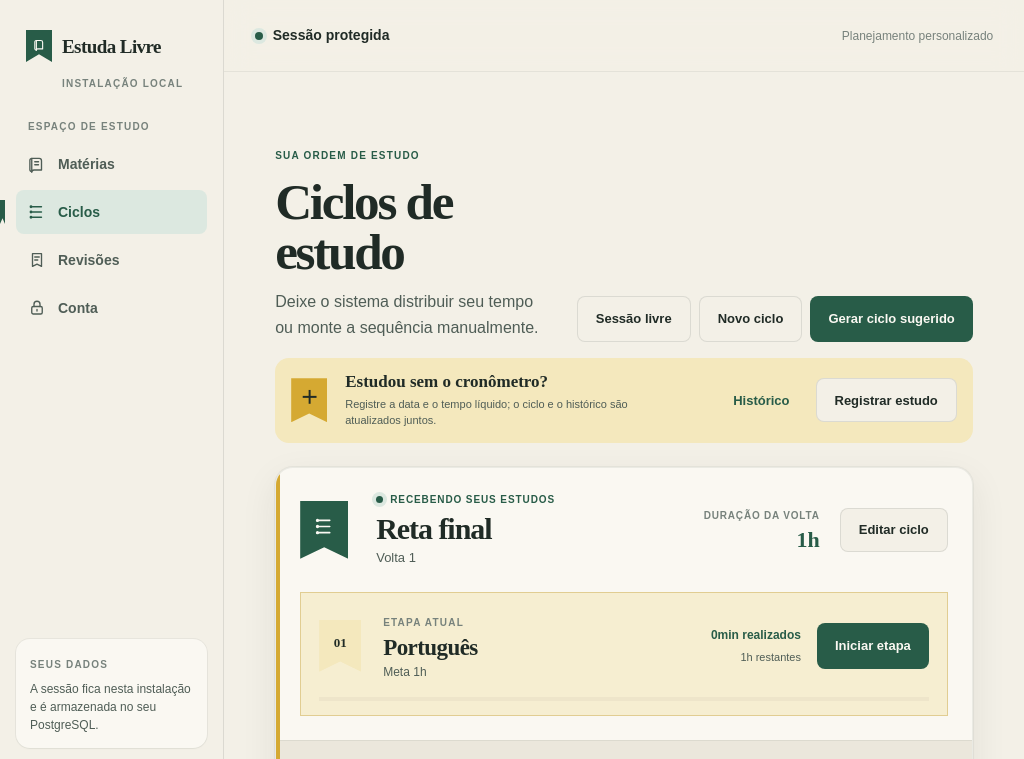
Scenario: authentication journey › starts the current cycle stage with one optional content
Click the button with aria-label "Iniciar Português": click(873, 646) [817,623,929,669]
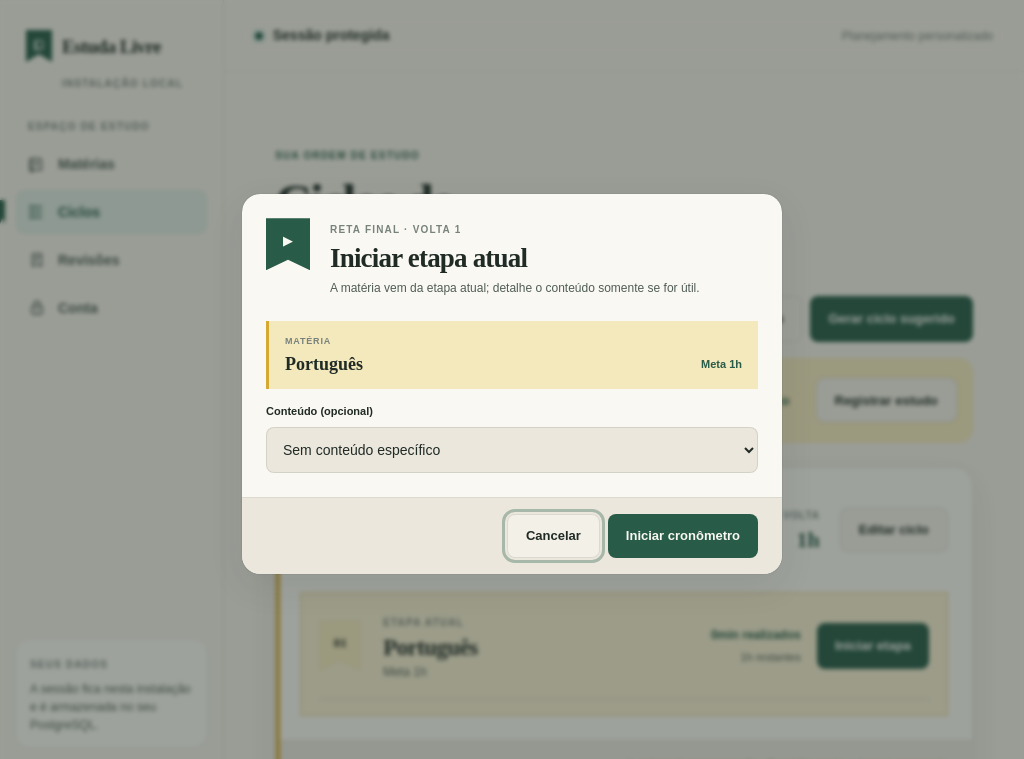
Expected: the text "Português" is shown, [285,354,363,374]
Select "Concordância verbal" in the dropdown labelled "Conteúdo (opcional)": (512, 450) [266,427,758,473]
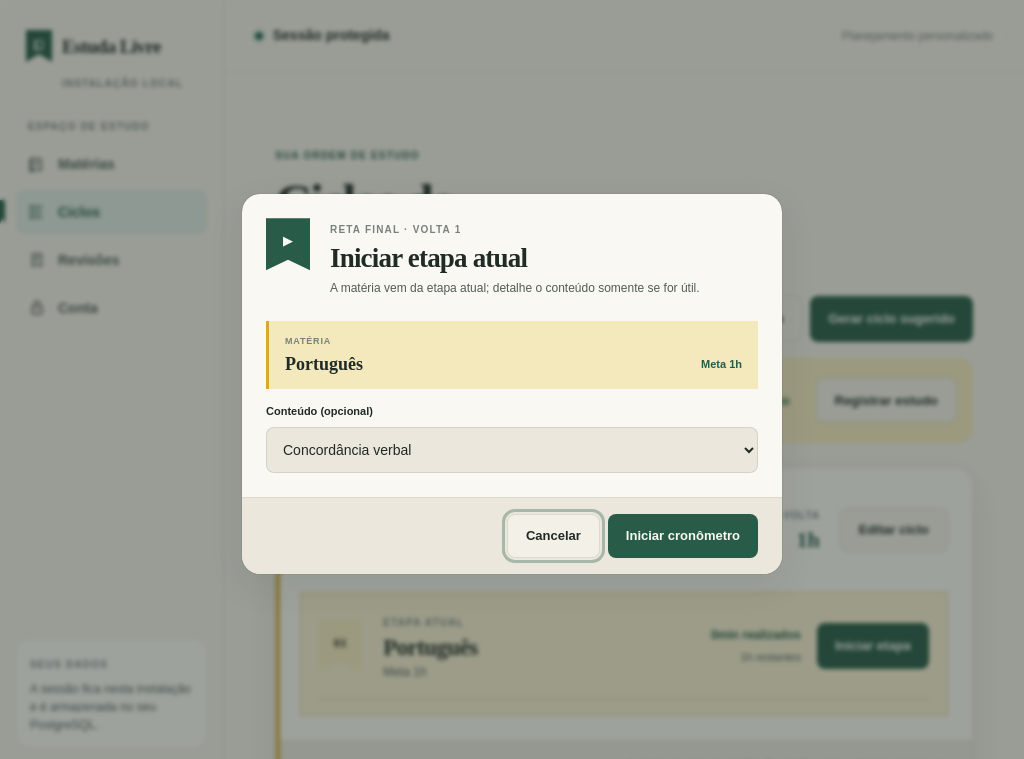
Click the button "Iniciar cronômetro": click(683, 536) [608,514,758,558]
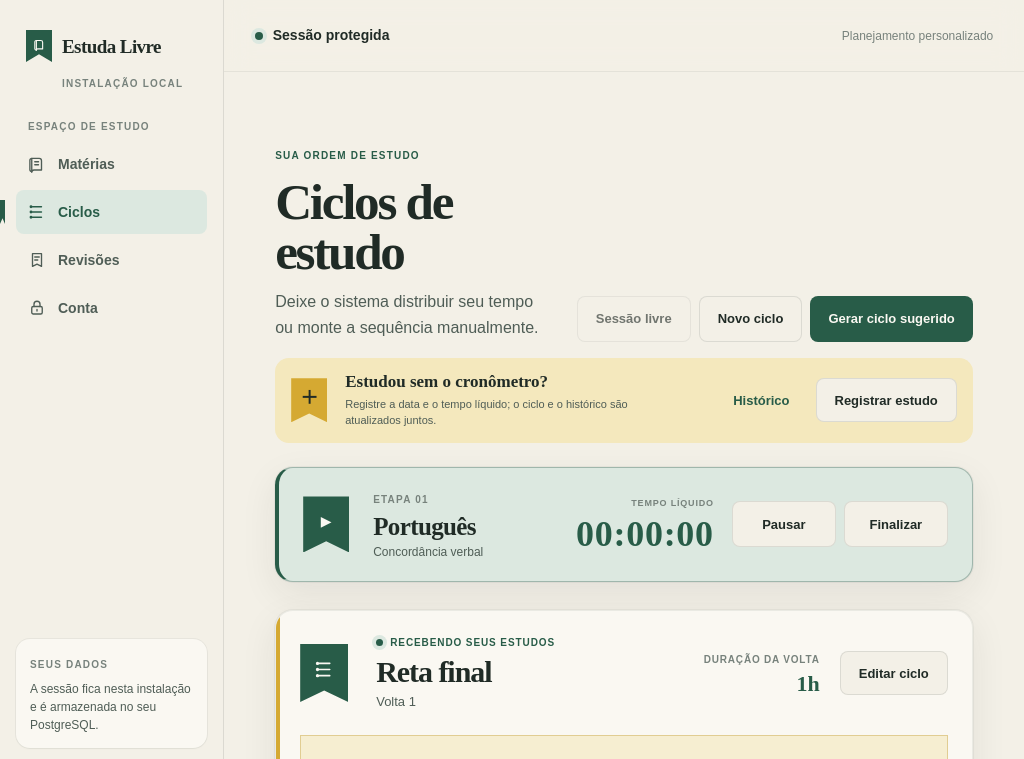
Expected: the heading "Português" is shown, [373,513,476,540]
Expected: the text "Concordância verbal" is shown, [373,545,483,559]
Expected: the button "Pausar" is enabled, [732,501,836,547]
